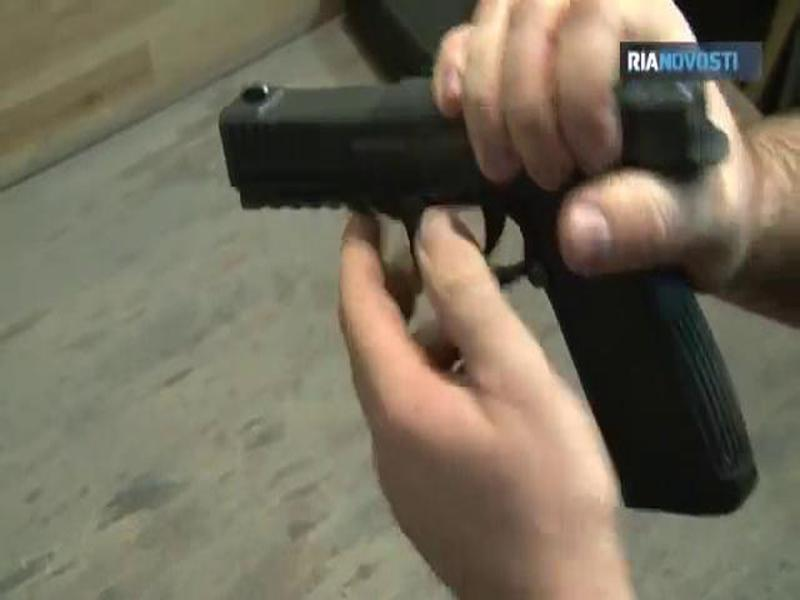Pistola: (206, 47, 774, 509)
